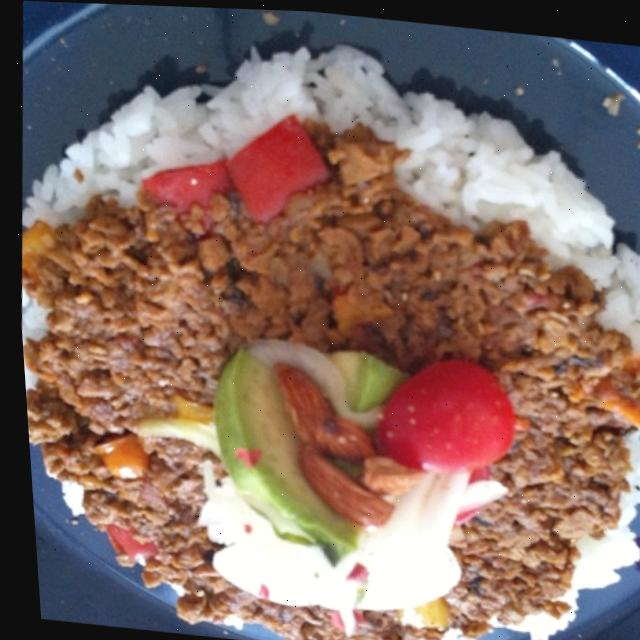面条主食: (3, 54, 640, 634)
